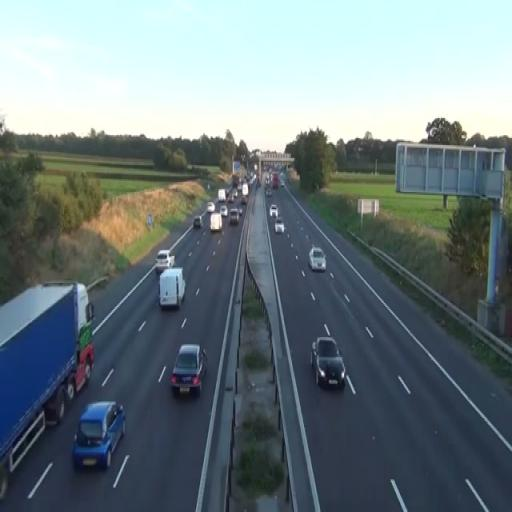Car: (72, 400, 126, 470), (170, 343, 208, 399), (310, 336, 346, 390), (308, 247, 326, 272), (210, 212, 222, 232), (229, 208, 240, 226), (275, 218, 285, 234), (218, 204, 228, 218), (270, 204, 278, 220), (193, 215, 202, 229)
Truck: (0, 280, 95, 502), (158, 266, 186, 310)
